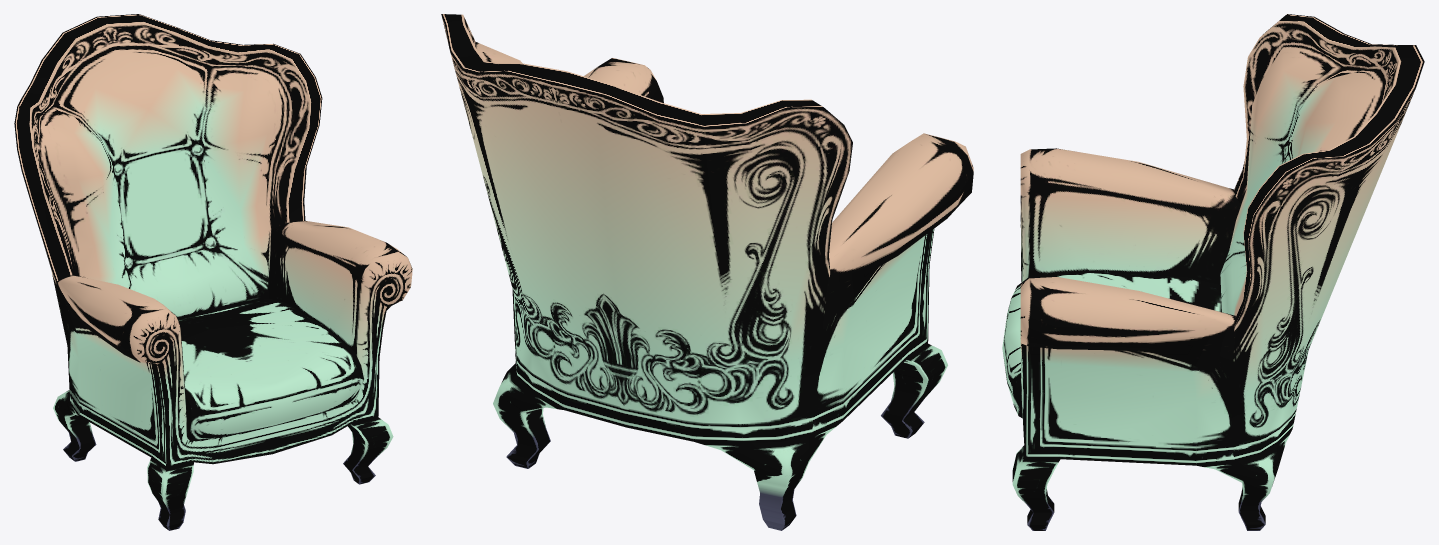
File: bl0814-color.glb
3 views of the same model, side by side, from view 1: azimuth 30°, elevation 25°; view 2: azimuth 150°, elevation 25°; view 3: azimuth 270°, elevation 25° (orthographic). The views are drawn at different scales.
Visible parts, largest first — view 1: role_0; view 2: role_0; view 3: role_0.
Boxes of the visible parts, <box> form: role_0: <box>14,14,412,530</box>; role_0: <box>441,14,973,530</box>; role_0: <box>1002,14,1424,530</box>.
Bounding box in the file's own units: 0.9172 × 1.06 × 0.9814.
Materials: 1 (1 with a texture image).
